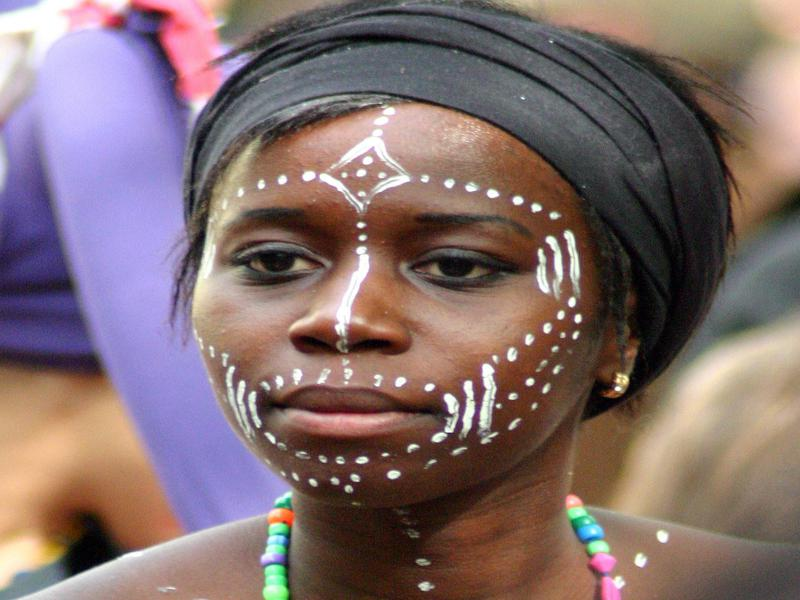person: (65, 5, 798, 600)
